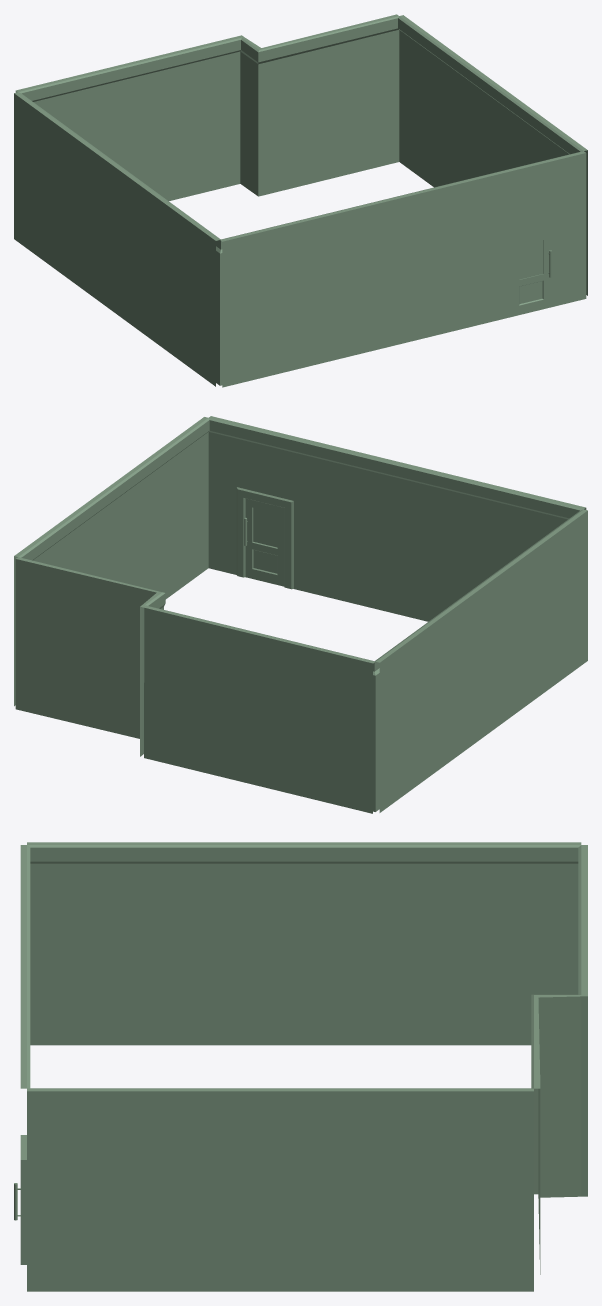
Rendered from Paredes.fbx.
3 renders of one model, top to bottom at view 1: azimuth 30°, elevation 25°; view 2: azimuth 150°, elevation 25°; view 3: azimuth 270°, elevation 25°, orthographic. The views are drawn at different scales.
Visible parts, largest first — view 1: Paredes1, Puerta, Vidrio1; view 2: Paredes1, Puerta, Vidrio1; view 3: Paredes1, Puerta.
Part boxes in pixels (x1,y1,x2,y2): Paredes1: [14, 14, 587, 387]; Puerta: [513, 231, 551, 316]; Vidrio1: [519, 240, 543, 279]; Paredes1: [14, 416, 587, 813]; Puerta: [244, 498, 283, 586]; Vidrio1: [253, 508, 277, 547]; Paredes1: [20, 842, 587, 1291]; Puerta: [14, 1135, 26, 1264].
Size of the model in its own units: 943 by 353 by 918.
